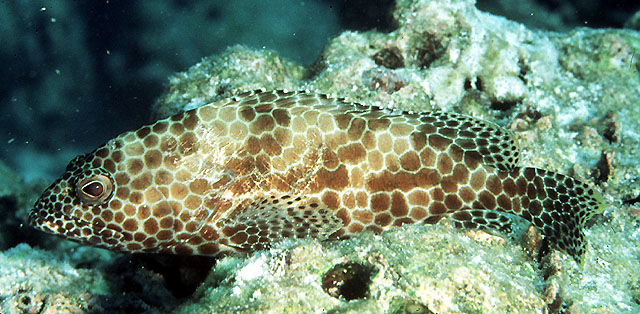fish: (27, 86, 612, 272)
